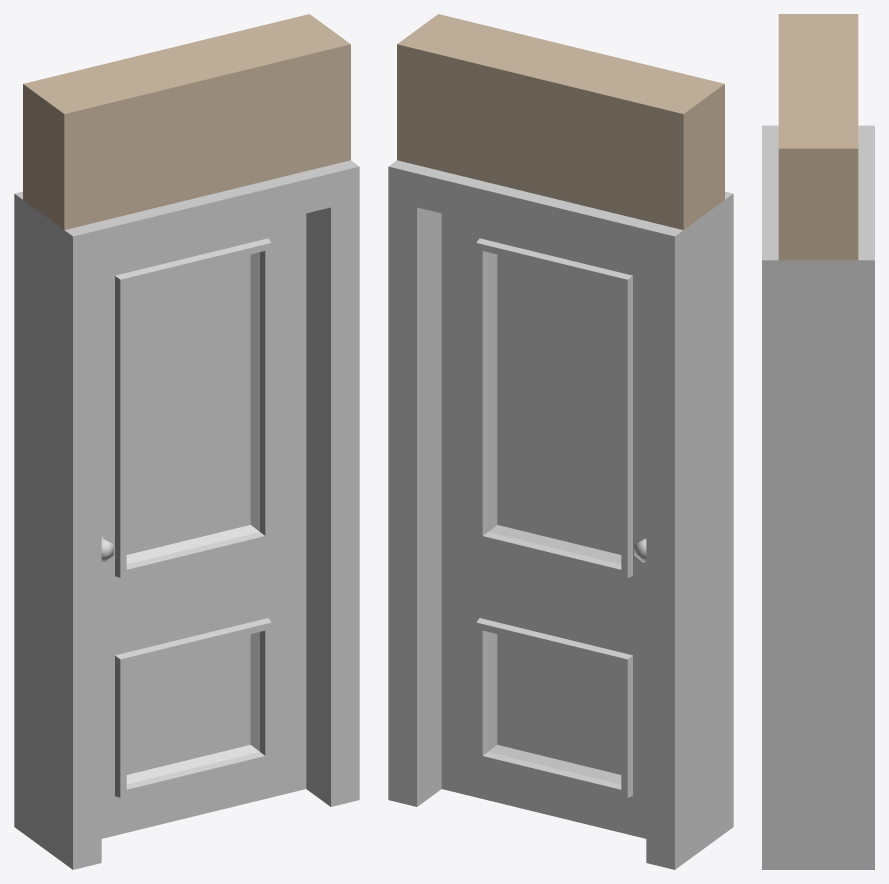
File: room_doorway_mesh_01.fbx
3 views of the same model, side by side, from view 1: azimuth 30°, elevation 25°; view 2: azimuth 150°, elevation 25°; view 3: azimuth 270°, elevation 25° (orthographic). The views are drawn at different scales.
Parts seen in each view (by area): view 1: polySurface780, polySurface779, pPlane519; view 2: polySurface780, polySurface779, pPlane519; view 3: polySurface779, pPlane519.
Part boxes in pixels (x1,y1,x2,y2): polySurface780: (101, 213, 306, 838); polySurface779: (14, 160, 359, 869); pPlane519: (23, 14, 350, 229); polySurface780: (441, 213, 646, 838); polySurface779: (388, 160, 733, 869); pPlane519: (397, 14, 724, 229); polySurface779: (762, 125, 874, 869); pPlane519: (778, 14, 858, 260).
Bounding box in the file's own units: 100 × 250 × 35.41.
